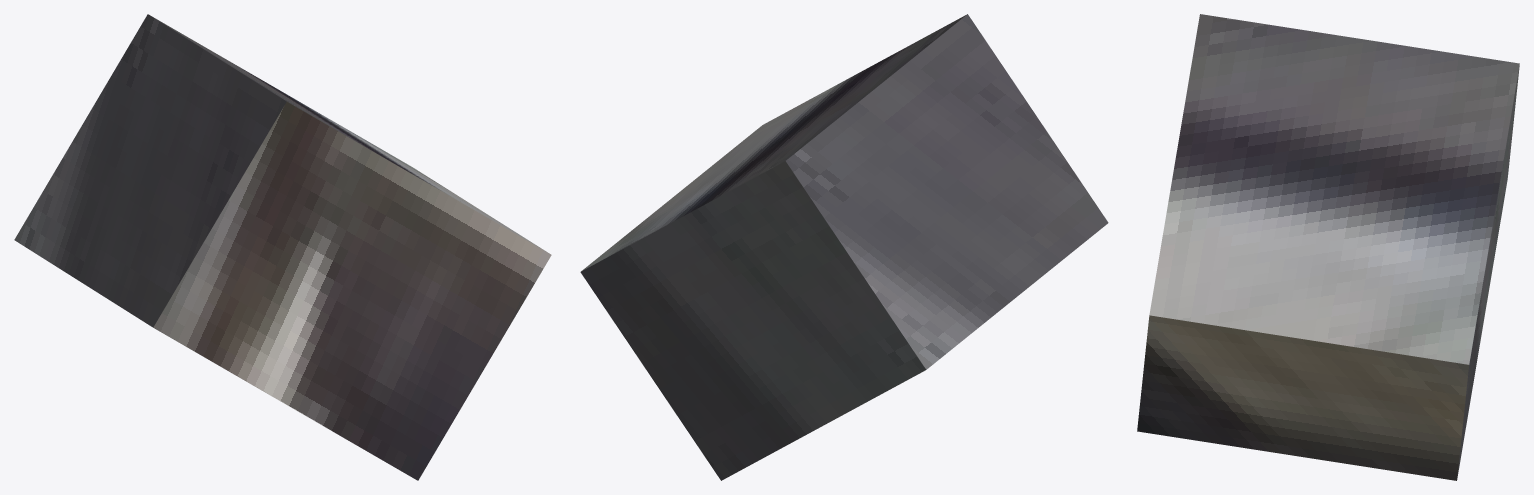
The picture shows the model from 3 angles, left to right: view 1: azimuth 30°, elevation 25°; view 2: azimuth 150°, elevation 25°; view 3: azimuth 270°, elevation 25°; orthographic projection. The views are drawn at different scales.
Parts seen in each view (by area): view 1: BAG_0599100010070158; view 2: BAG_0599100010070158; view 3: BAG_0599100010070158.
Part boxes in pixels (bbox=[...]): BAG_0599100010070158: bbox=[14, 14, 551, 480]; BAG_0599100010070158: bbox=[580, 14, 1108, 480]; BAG_0599100010070158: bbox=[1137, 14, 1519, 480].
Bounding box in the file's own units: 3.49 × 3.45 × 2.93.
2 materials, 1 textured.
